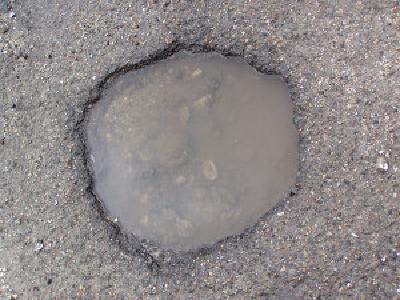pothole: (74, 39, 307, 272)
